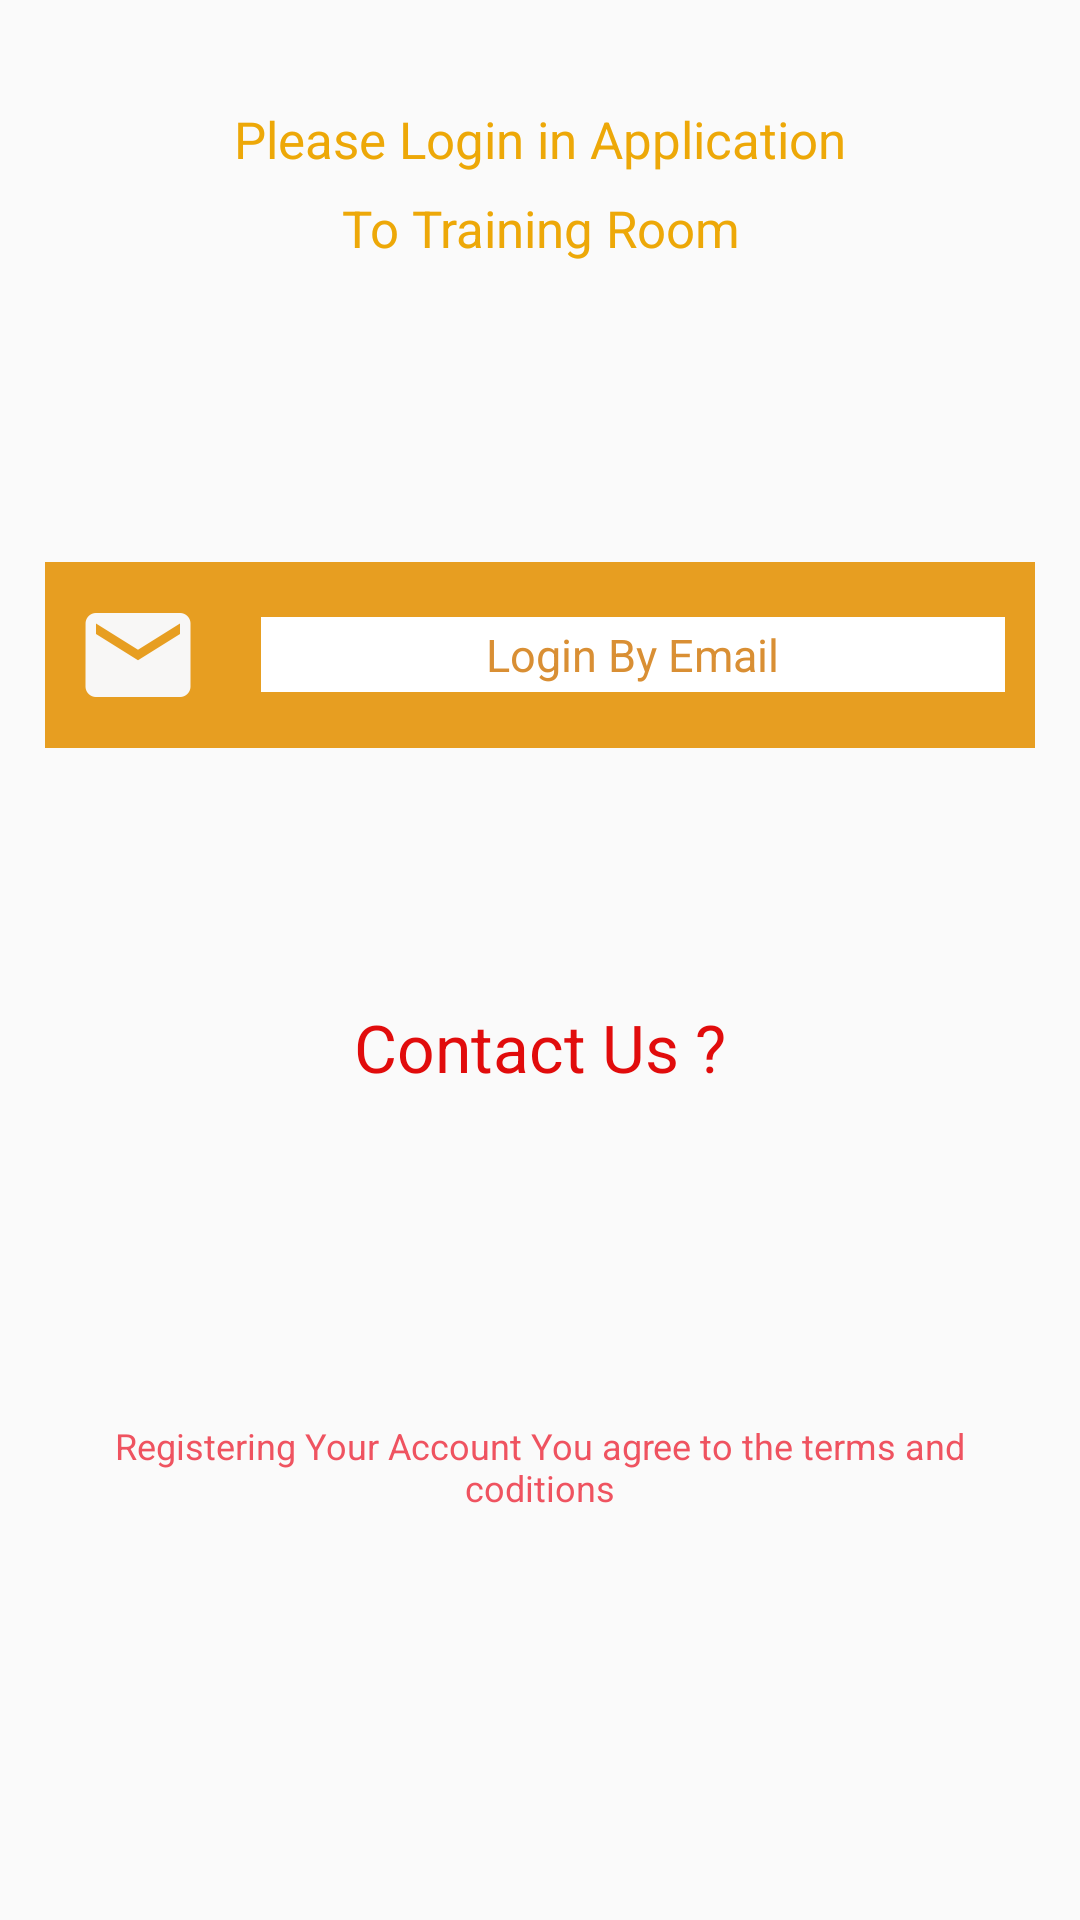

Point at icon controls on the screen. Image size 1080 × 1920, points as (x=x, y=y).
email: (x=138, y=655)
